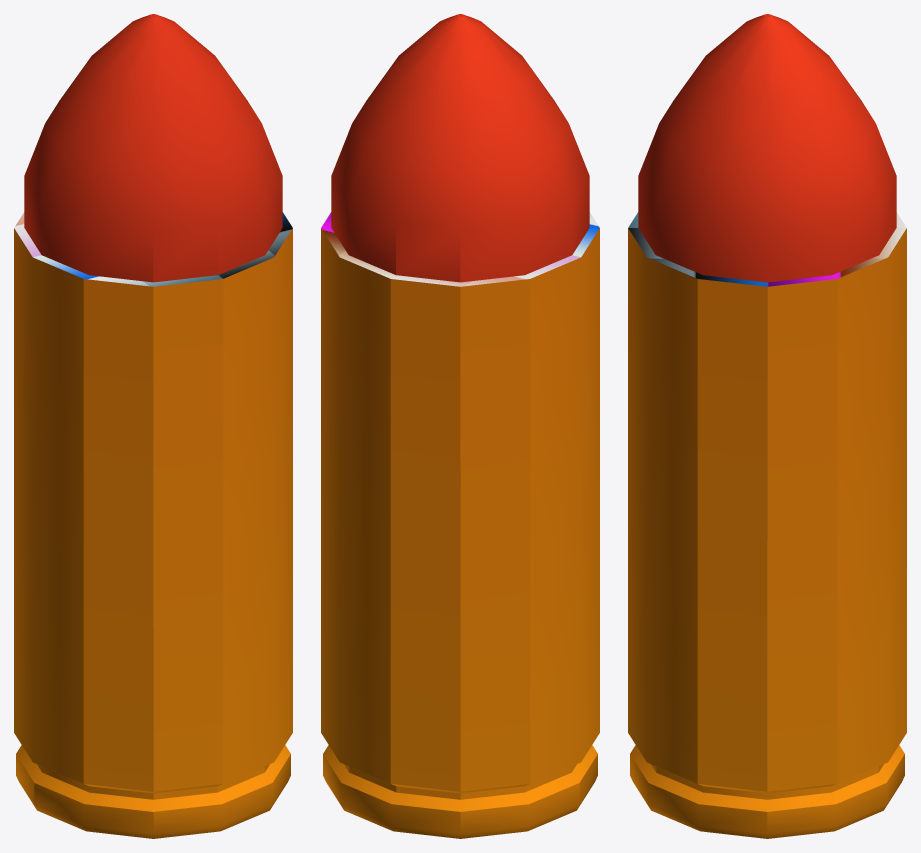
The model's file is bullet of shotgun.fbx.
The picture shows the model from 3 angles, left to right: view 1: azimuth 30°, elevation 25°; view 2: azimuth 150°, elevation 25°; view 3: azimuth 270°, elevation 25°; orthographic projection.
Visible parts, largest first — view 1: Cylinder.002; view 2: Cylinder.002; view 3: Cylinder.002.
Part boxes in pixels (bbox=[...]): Cylinder.002: bbox=[14, 14, 292, 838]; Cylinder.002: bbox=[321, 14, 599, 838]; Cylinder.002: bbox=[628, 14, 906, 838].
Size of the model in its own units: 33.95 by 103 by 33.95.
Materials: 1 (1 with a texture image).
